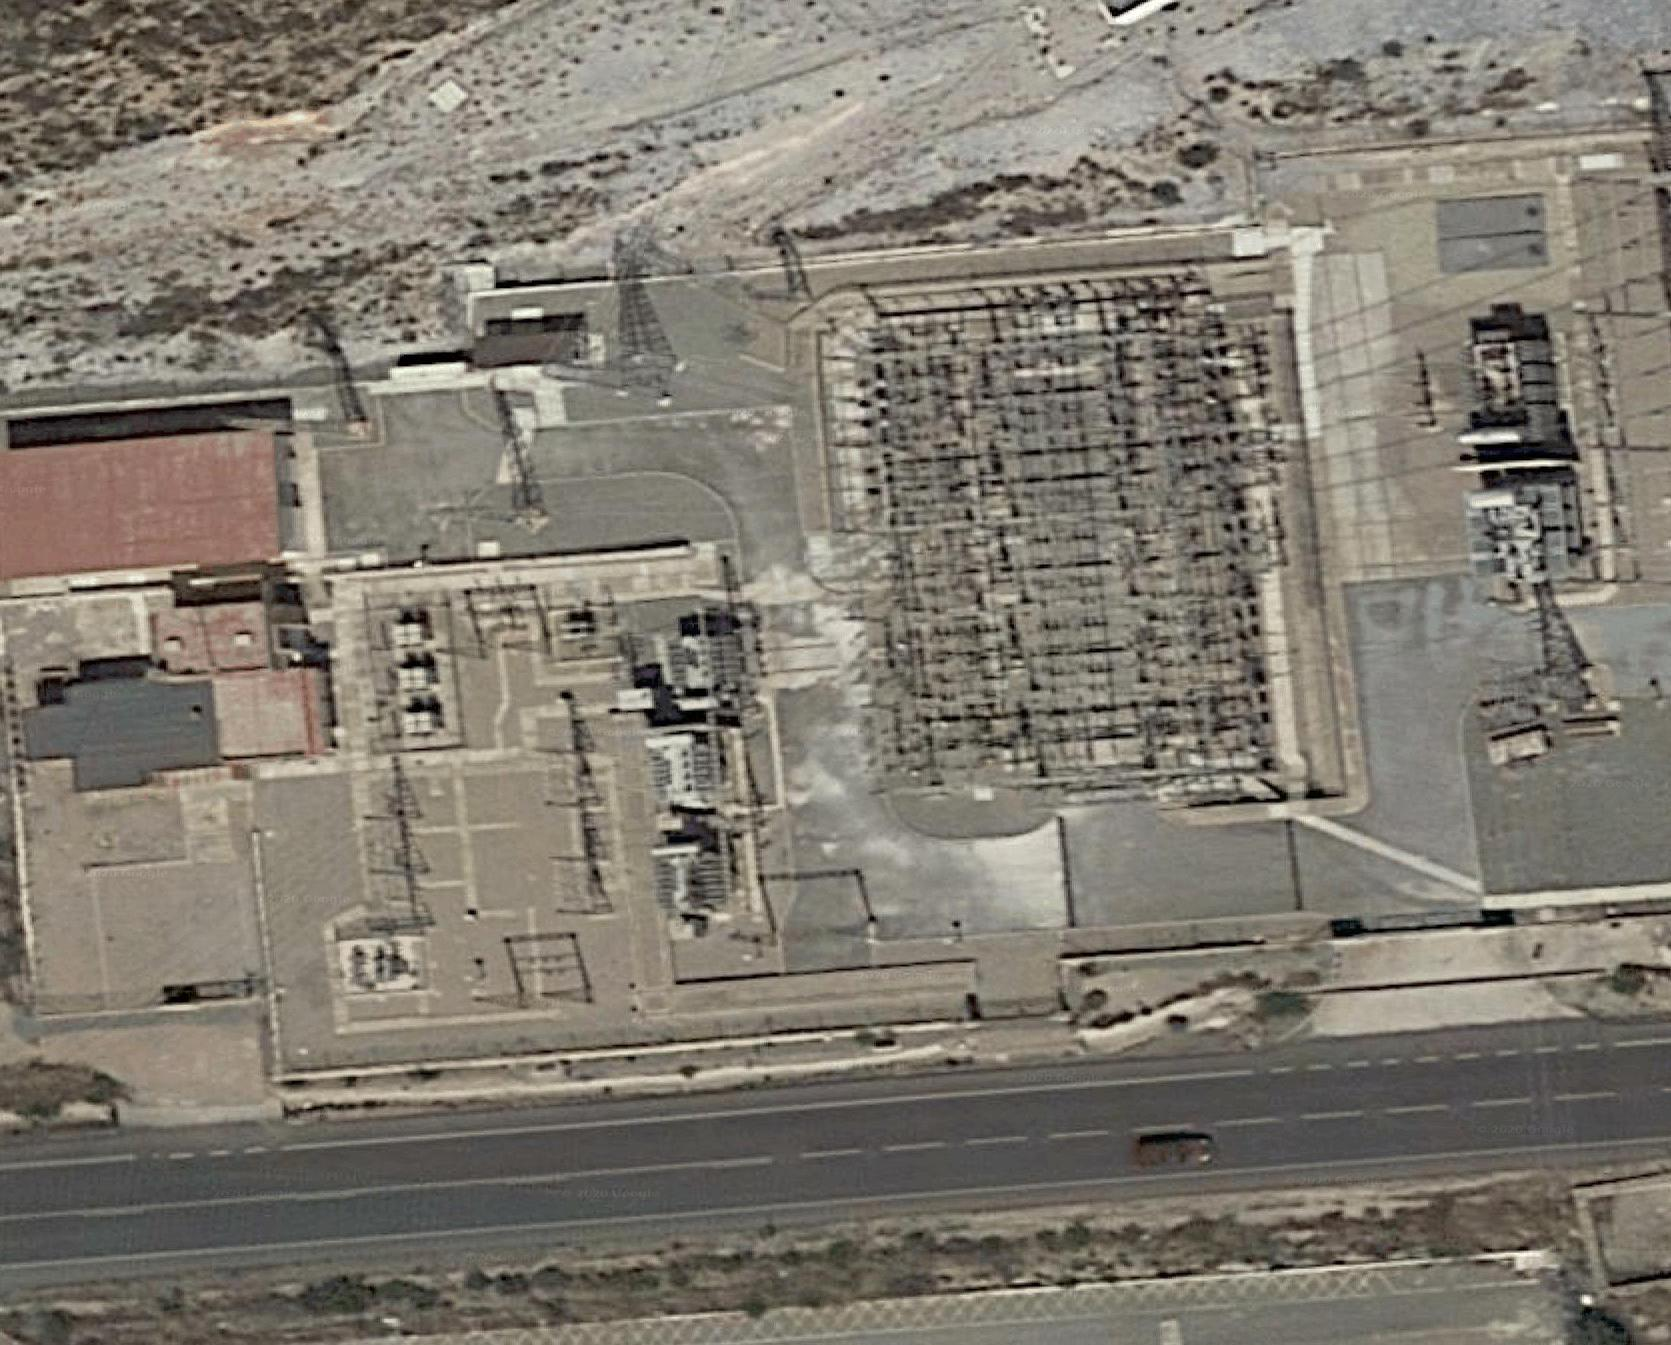substation: (288, 246, 1372, 1018), (1397, 67, 1671, 781)
